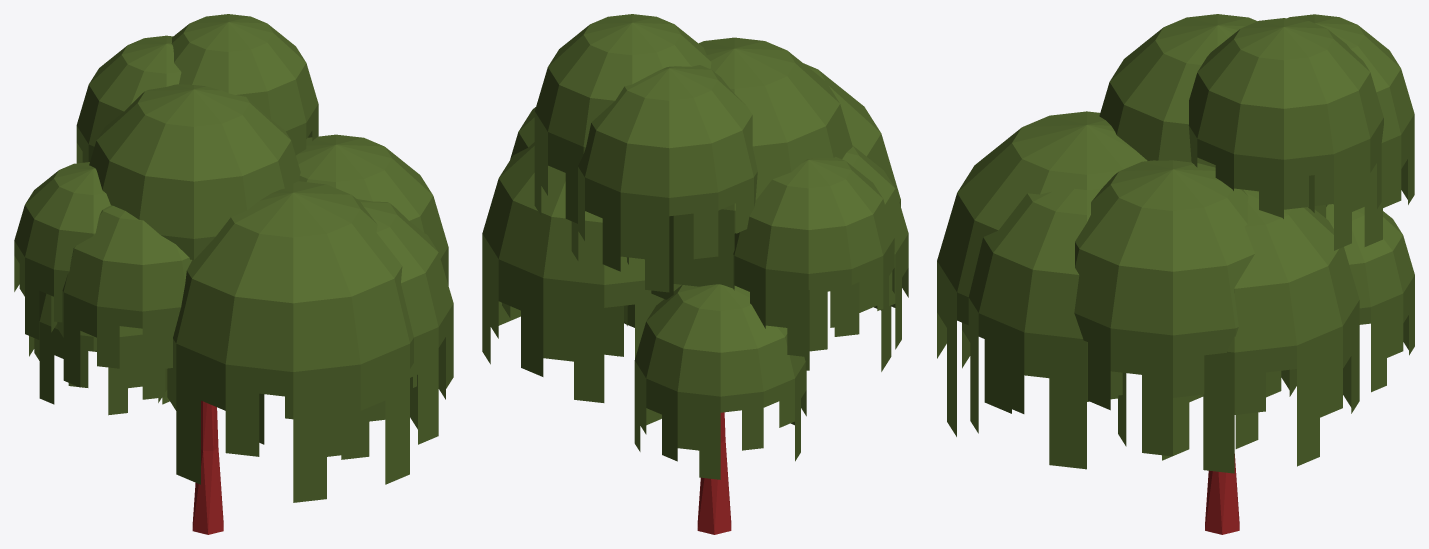
The model's file is willow_tree_2.fbx.
The picture shows the model from 3 angles, left to right: view 1: azimuth 30°, elevation 25°; view 2: azimuth 150°, elevation 25°; view 3: azimuth 270°, elevation 25°; orthographic projection. The views are drawn at different scales.
Parts seen in each view (by area): view 1: _G-Object (Loose Mesh), G-Object.007; view 2: _G-Object (Loose Mesh), G-Object.007; view 3: _G-Object (Loose Mesh), G-Object.007.
Boxes of the visible parts, x1=… form: _G-Object (Loose Mesh): x1=14, y1=14, x2=453, y2=502; G-Object.007: x1=192, y1=400, x2=223, y2=534; _G-Object (Loose Mesh): x1=482, y1=14, x2=908, y2=479; G-Object.007: x1=697, y1=412, x2=731, y2=534; _G-Object (Loose Mesh): x1=937, y1=14, x2=1414, y2=473; G-Object.007: x1=1205, y1=454, x2=1239, y2=534.
Size of the model in its own units: 970 by 1178 by 971.
